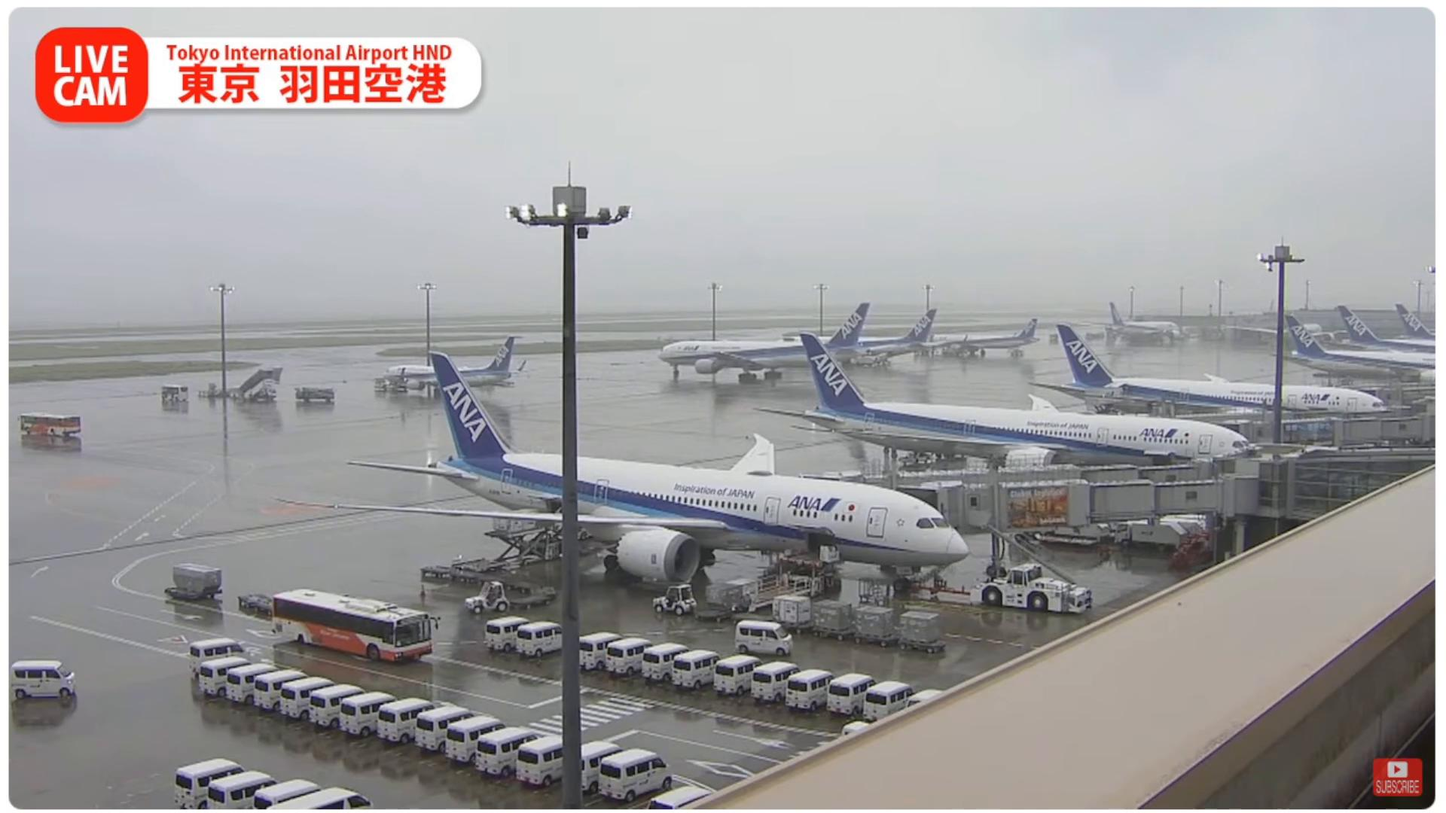APS: (968, 562, 1094, 614)
Aerobridge: (892, 474, 1261, 535), (796, 455, 1210, 487)
Airplane: (270, 351, 970, 592)
Dolly: (693, 601, 947, 653), (421, 564, 556, 609), (165, 584, 224, 601)
JCPL: (451, 522, 563, 573), (744, 552, 838, 601)
Tractor: (653, 583, 701, 615), (466, 580, 511, 614)
Window: (1292, 458, 1433, 516)
